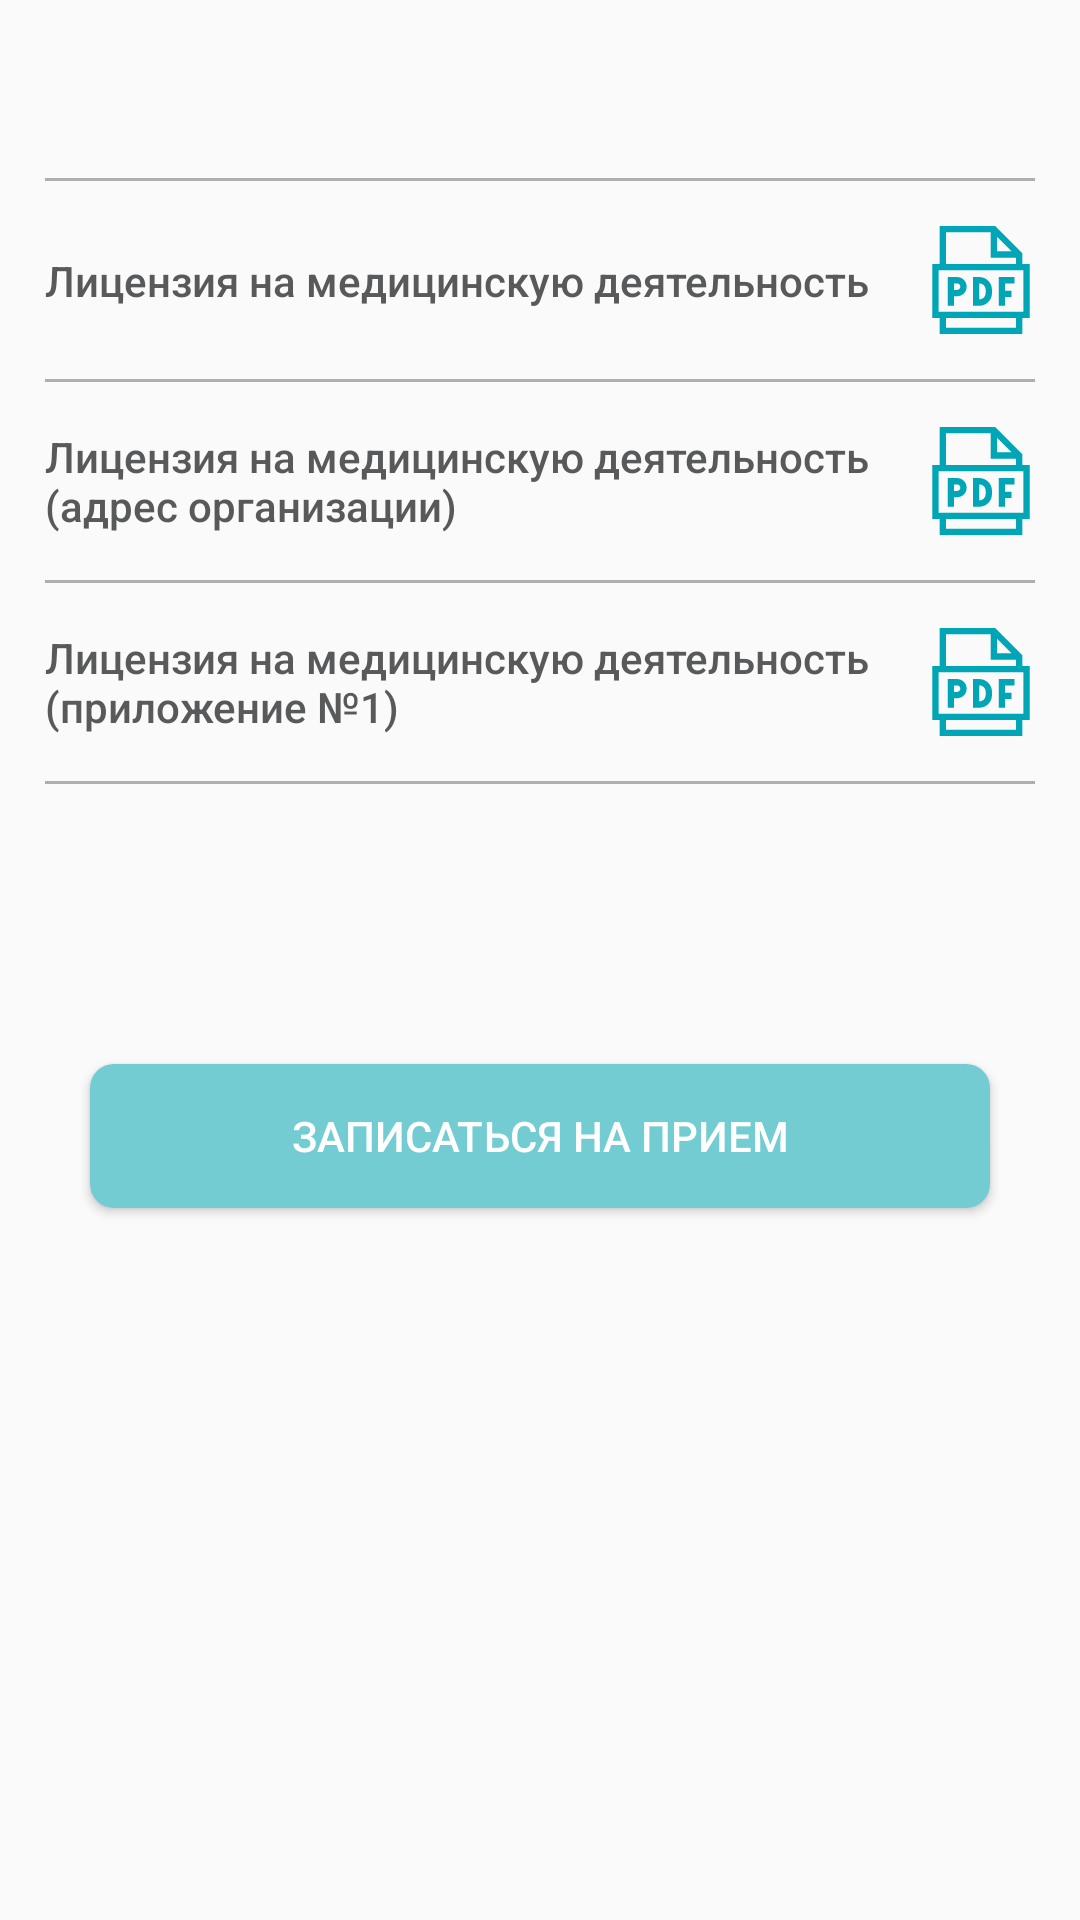

Named icons in this screenshot (1080w x 1920h) and their centers, [x,y]:
file: [981,280], [981,481], [981,682]
